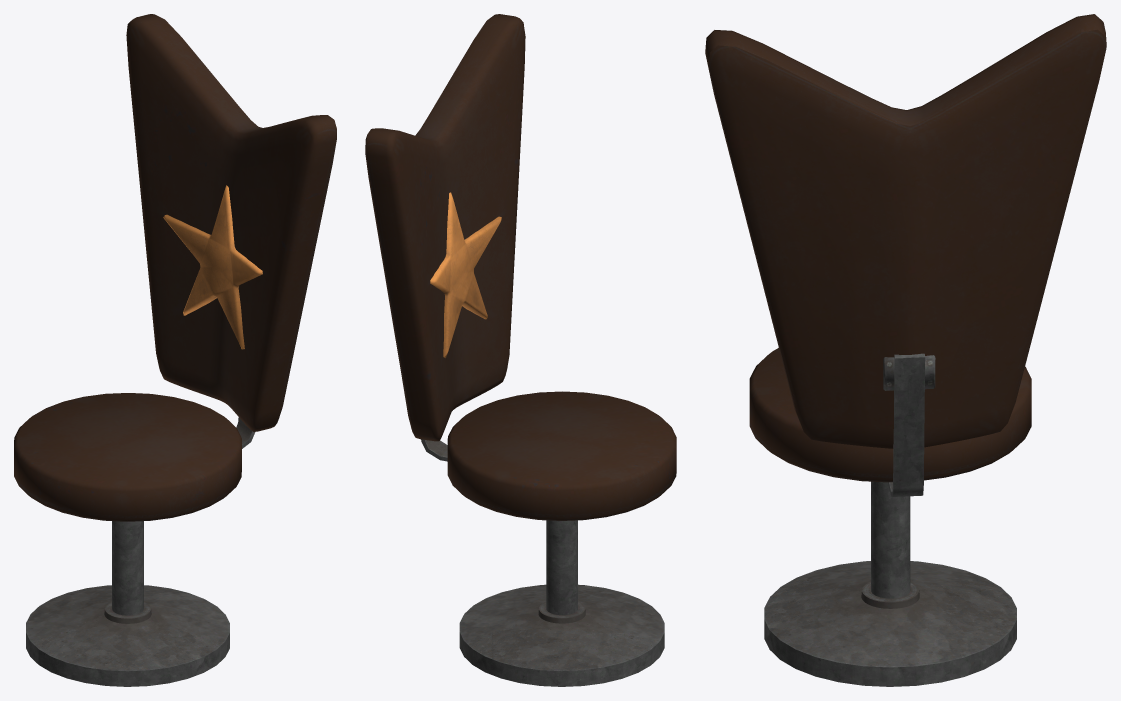
File: kidschair_reference.011.fbx
The picture shows the model from 3 angles, left to right: view 1: azimuth 30°, elevation 25°; view 2: azimuth 150°, elevation 25°; view 3: azimuth 270°, elevation 25°; orthographic projection. The views are drawn at different scales.
Visible parts, largest first — view 1: kidschair_reference.011; view 2: kidschair_reference.011; view 3: kidschair_reference.011.
Boxes of the visible parts, x1,y1,x2,y2 form: kidschair_reference.011: (14, 14, 336, 686); kidschair_reference.011: (365, 14, 676, 686); kidschair_reference.011: (705, 14, 1106, 686).
Bounding box in the file's own units: 48.81 × 104 × 56.5.
